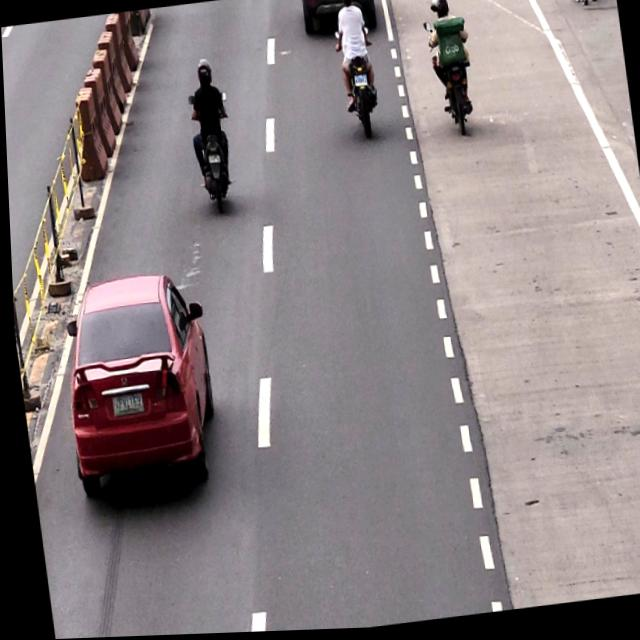Car: (46, 271, 222, 497)
License-Plate: (104, 392, 141, 418), (351, 74, 368, 90)
Motorcycle: (181, 55, 232, 214), (425, 0, 475, 140), (333, 0, 376, 133)
